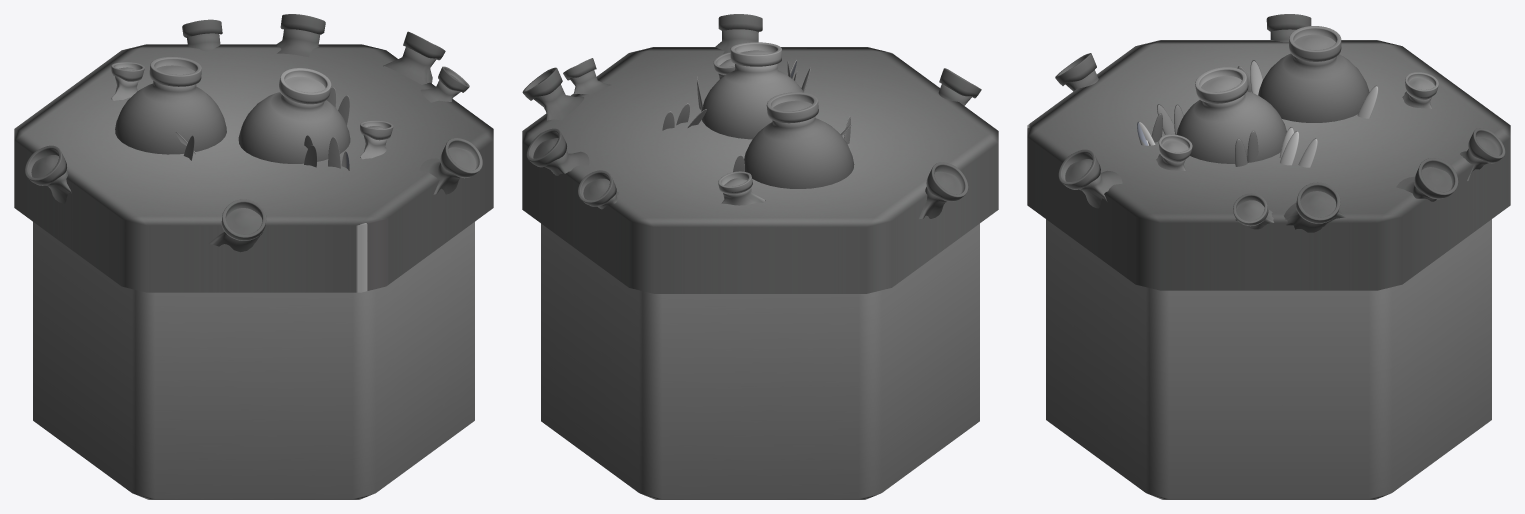
Rendered from tiles_prout_2.fbx.
3 renders of one model, left to right at view 1: azimuth 30°, elevation 25°; view 2: azimuth 150°, elevation 25°; view 3: azimuth 270°, elevation 25°, orthographic.
Visible parts, largest first — view 1: Cylinder.080, Cylinder.082, Sphere.152, Sphere.156, Sphere.188, Sphere.160, Sphere.162, Sphere.194, Sphere.193, Sphere.159, Sphere.133, Sphere.187 (+1 smaller); view 2: Cylinder.080, Cylinder.082, Sphere.152, Sphere.156, Sphere.193, Sphere.162, Sphere.194, Sphere.188, Sphere.159, Sphere.190, Sphere.160, Sphere.187; view 3: Cylinder.080, Cylinder.082, Sphere.152, Sphere.156, Sphere.194, Sphere.188, Sphere.193, Sphere.159, Sphere.187, Sphere.190, Sphere.133, Sphere.160 (+1 smaller).
Part boxes in pixels (x1,y1,x2,y2): Cylinder.080: [33, 222, 474, 499]; Cylinder.082: [14, 44, 493, 292]; Sphere.152: [115, 56, 226, 154]; Sphere.156: [238, 68, 350, 163]; Sphere.188: [419, 138, 482, 194]; Sphere.160: [209, 199, 266, 252]; Sphere.162: [25, 145, 71, 203]; Sphere.194: [383, 31, 445, 84]; Sphere.193: [276, 14, 325, 57]; Sphere.159: [182, 19, 222, 51]; Sphere.133: [360, 120, 393, 159]; Sphere.187: [420, 66, 469, 102]; Cylinder.080: [541, 223, 979, 499]; Cylinder.082: [522, 47, 998, 293]; Sphere.152: [744, 92, 854, 188]; Sphere.156: [701, 42, 803, 139]; Sphere.193: [526, 128, 589, 175]; Sphere.162: [919, 162, 968, 219]; Sphere.194: [522, 67, 584, 120]; Sphere.188: [715, 14, 762, 54]; Sphere.159: [578, 170, 618, 209]; Sphere.190: [718, 171, 765, 205]; Sphere.160: [938, 68, 981, 105]; Sphere.187: [563, 58, 610, 94]; Cylinder.080: [1046, 219, 1491, 499]; Cylinder.082: [1027, 40, 1510, 290]; Sphere.152: [1258, 26, 1369, 122]; Sphere.156: [1176, 67, 1286, 163]; Sphere.194: [1284, 182, 1346, 232]; Sphere.188: [1058, 149, 1122, 208]; Sphere.193: [1396, 158, 1458, 201]; Sphere.159: [1460, 128, 1505, 180]; Sphere.187: [1233, 193, 1273, 229]; Sphere.190: [1402, 72, 1438, 108]; Sphere.133: [1156, 134, 1192, 170]; Sphere.160: [1055, 53, 1098, 91].
Bounding box in the file's own units: 199 × 159 × 193.
